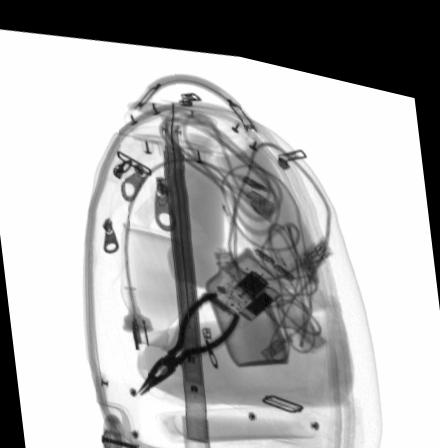Pliers: (133, 282, 239, 388)
